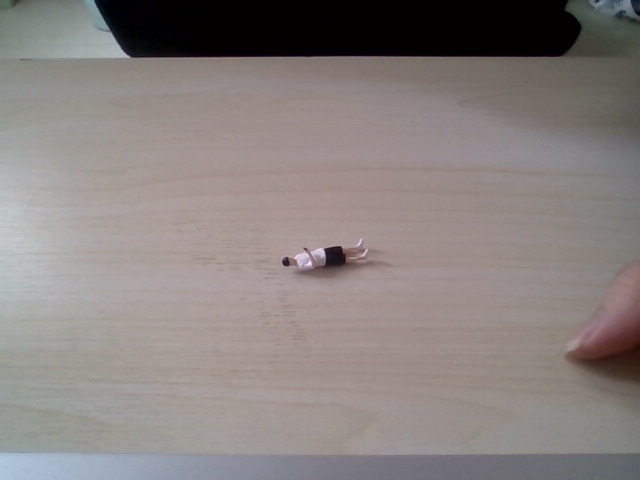fall: (275, 232, 373, 280)
